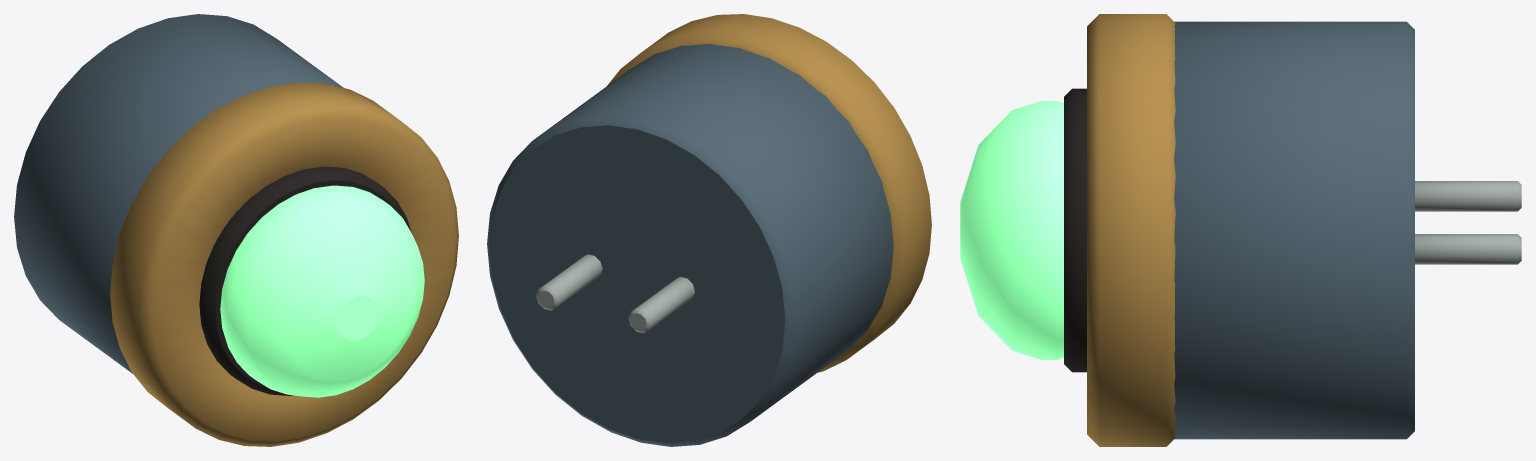
Rendered from SectorLamp_Green.fbx.
3 views of the same model, side by side, from view 1: azimuth 30°, elevation 25°; view 2: azimuth 150°, elevation 25°; view 3: azimuth 270°, elevation 25° (orthographic). The views are drawn at different scales.
Parts seen in each view (by area): view 1: Retaining ring, Socket shell, Replaceable lens, Lens seat; view 2: Socket shell, Retaining ring, Terminal.001, Terminal; view 3: Socket shell, Retaining ring, Replaceable lens, Lens seat, Terminal, Terminal.001.
Part boxes in pixels (x1,y1,x2,y2): Retaining ring: (110,82,458,446); Socket shell: (14,14,343,373); Replaceable lens: (220,185,424,397); Lens seat: (199,166,411,395); Socket shell: (487,43,893,446); Retaining ring: (607,14,931,372); Terminal.001: (536,254,602,310); Terminal: (628,277,694,332); Socket shell: (1174,21,1414,439); Retaining ring: (1087,14,1175,446); Replaceable lens: (960,101,1063,359); Lens seat: (1064,88,1086,372); Terminal: (1415,181,1521,211); Terminal.001: (1415,234,1521,264).
Bounding box in the file's own units: 0.104 × 0.104 × 0.1343.
